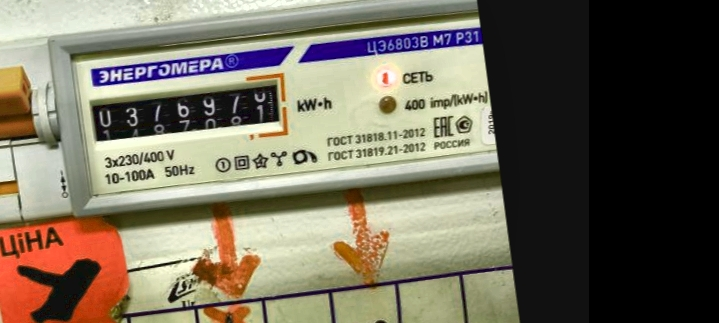0: (95, 105, 112, 129)
1: (253, 103, 267, 124)
3: (124, 105, 140, 128)
6: (174, 95, 192, 119)
7: (148, 99, 166, 125), (226, 91, 244, 115)
9: (200, 93, 217, 117)
screen: (79, 61, 296, 164)
